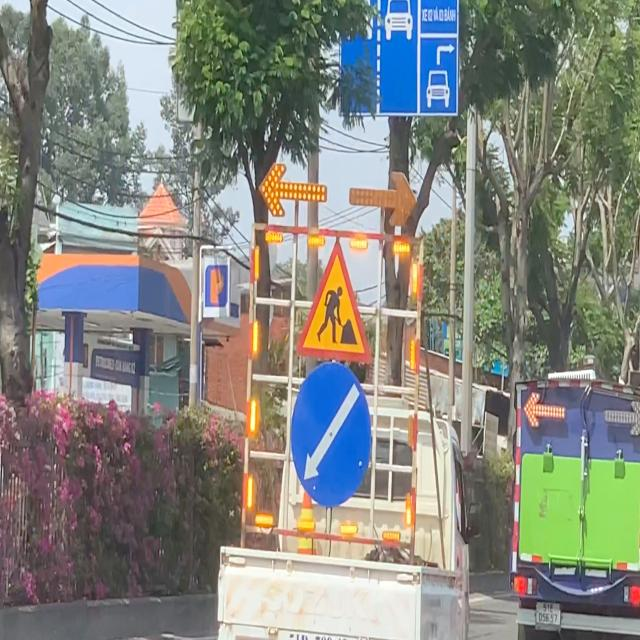Hieu lenh: (290, 361, 372, 509)
Nguy hiem: (296, 237, 374, 366)
